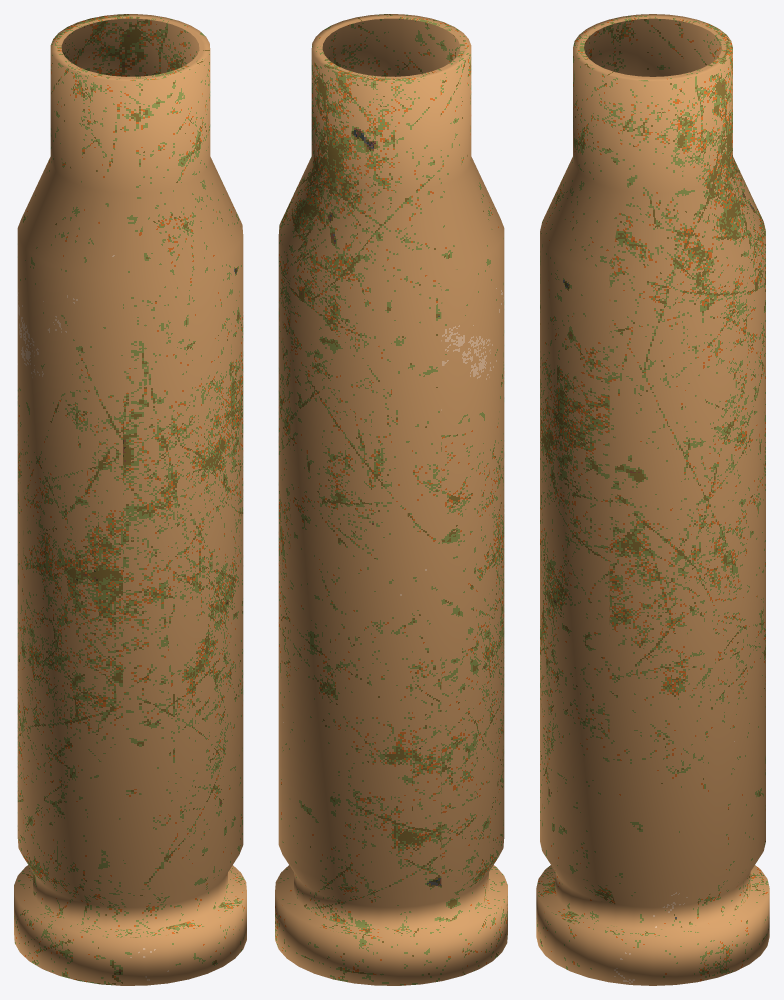
The model's file is 7.92×57mm casing.glb.
3 renders of one model, left to right at view 1: azimuth 30°, elevation 25°; view 2: azimuth 150°, elevation 25°; view 3: azimuth 270°, elevation 25°, orthographic.
Parts seen in each view (by area): view 1: Cylinder; view 2: Cylinder; view 3: Cylinder.
Boxes of the visible parts, <box> form: Cylinder: <box>14,14,246,985</box>; Cylinder: <box>275,14,507,985</box>; Cylinder: <box>536,14,769,985</box>.
Size of the model in its own units: 0.00848 by 0.0356 by 0.00848.
2 materials, 2 textured.
